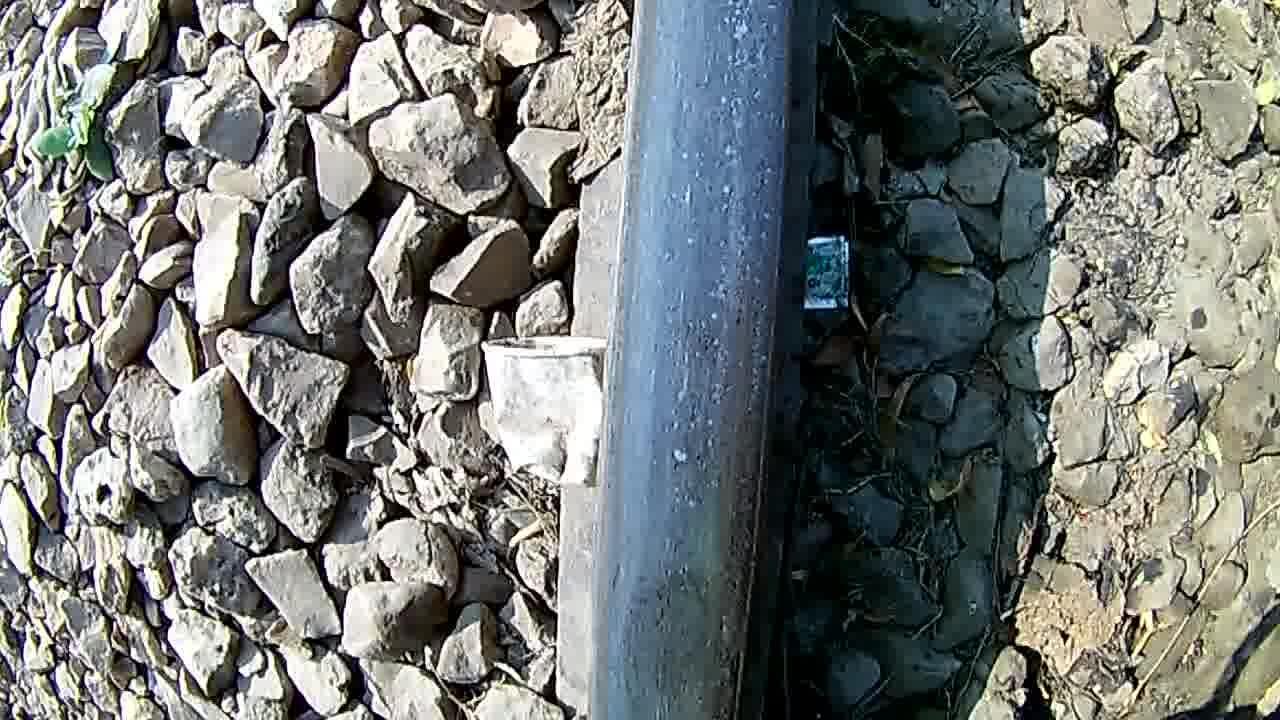bolt_missing: (576, 529, 753, 720)
